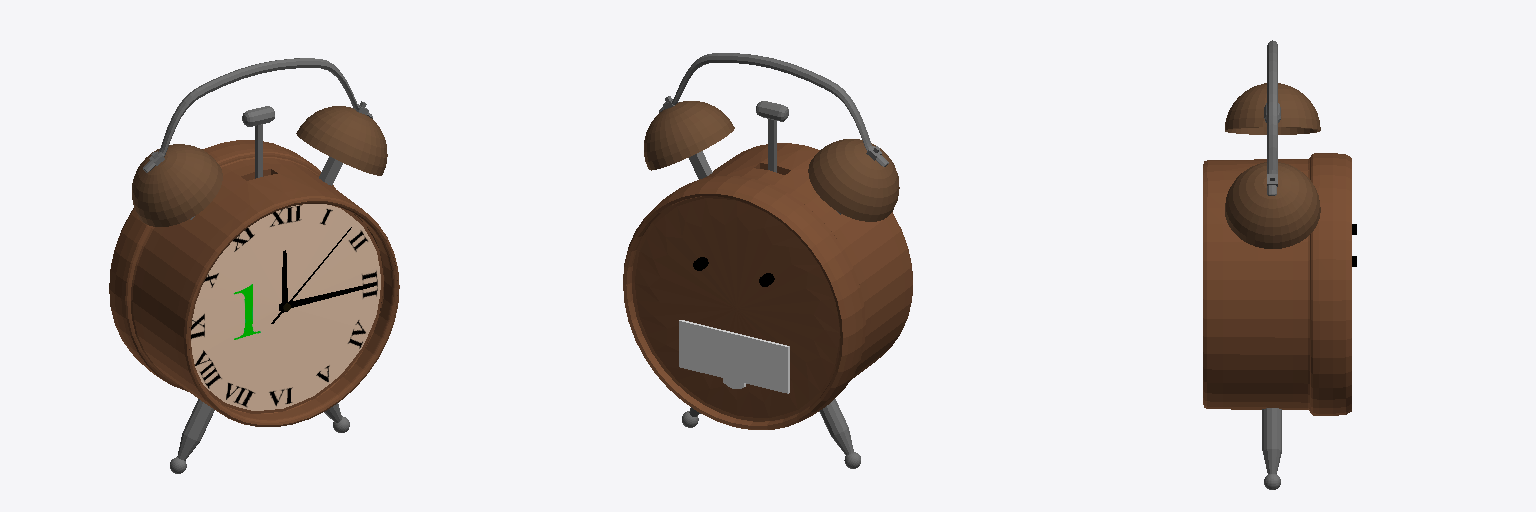
3 renders of one model, left to right at view 1: azimuth 30°, elevation 25°; view 2: azimuth 150°, elevation 25°; view 3: azimuth 270°, elevation 25°, orthographic.
Parts seen in each view (by area): view 1: Object, Sphere.001, Sphere, Cube.002, Cylinder.002, Cube.003; view 2: Object, Object.001, Sphere.001, Sphere, Cube.002, Cylinder.002, Cube.003; view 3: Object, Sphere, Sphere.001, Cube.002, Cylinder.001.
Part boxes in pixels (x1,y1,x2,y2): Object: (109,140,399,426); Sphere.001: (132,144,222,226); Sphere: (296,106,387,175); Cube.002: (143,58,372,172); Cylinder.002: (170,399,214,473); Cube.003: (242,106,274,178); Object: (623,143,912,429); Object.001: (679,320,789,393); Sphere.001: (808,139,899,221); Sphere: (644,101,734,170); Cube.002: (659,53,888,166); Cylinder.002: (819,399,860,468); Cube.003: (756,101,788,172); Object: (1203,153,1351,415); Sphere: (1225,162,1320,248); Sphere.001: (1225,83,1320,134); Cube.002: (1267,40,1277,195); Cylinder.001: (1262,408,1281,489).
Bounding box in the file's own units: 2.2 × 3.38 × 1.2.
6 materials, 5 textured.